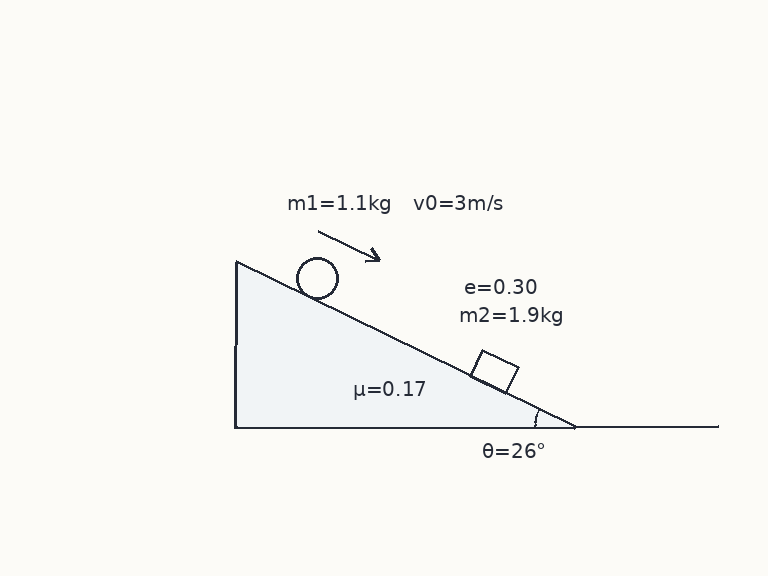ball: (294, 255, 340, 301)
block: (468, 348, 520, 395)
ramp: (234, 260, 577, 429)
